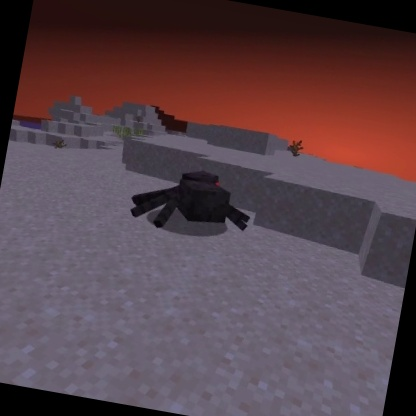spider: (121, 155, 262, 249)
